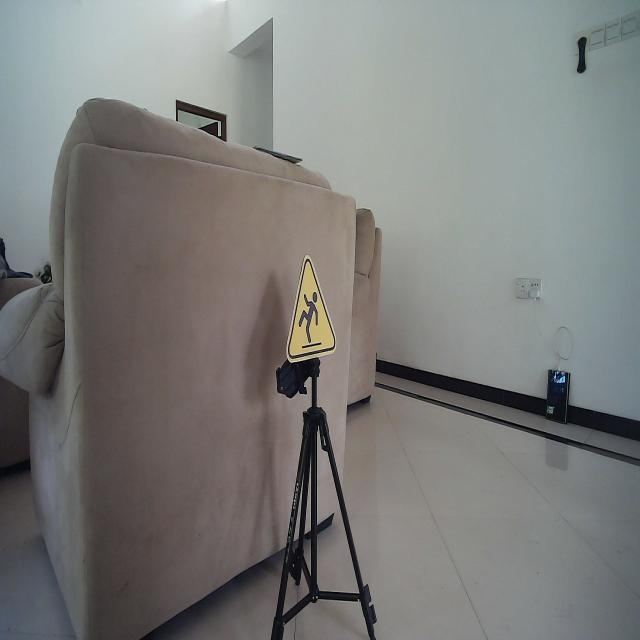slippery_sign: (285, 254, 338, 366)
